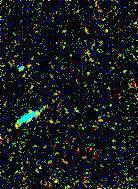star: (20, 98, 50, 128)
